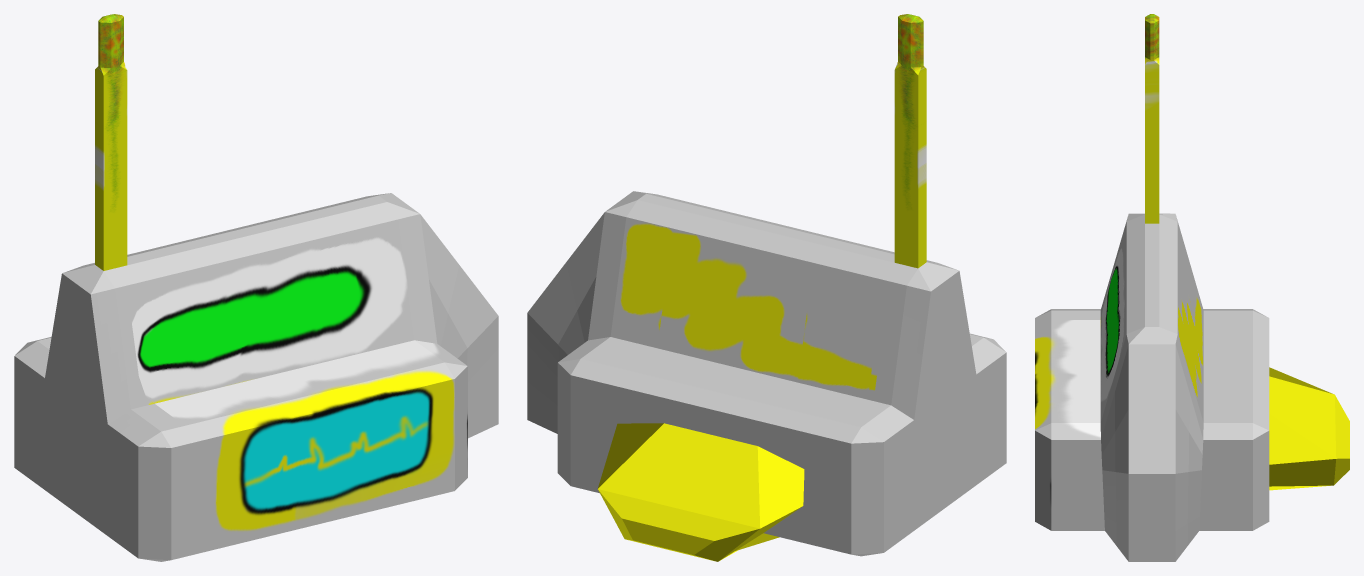
Rendered from gerador de energia.glb.
3 renders of one model, left to right at view 1: azimuth 30°, elevation 25°; view 2: azimuth 150°, elevation 25°; view 3: azimuth 270°, elevation 25°, orthographic. The views are drawn at different scales.
Visible parts, largest first — view 1: Cube; view 2: Cube; view 3: Cube.
Boxes of the visible parts, x1,y1,x2,y2 form: Cube: (14,14,498,561); Cube: (527,14,1006,561); Cube: (1035,14,1349,561).
Bounding box in the file's own units: 6.55 × 7.64 × 5.38.
1 material, 1 textured.
